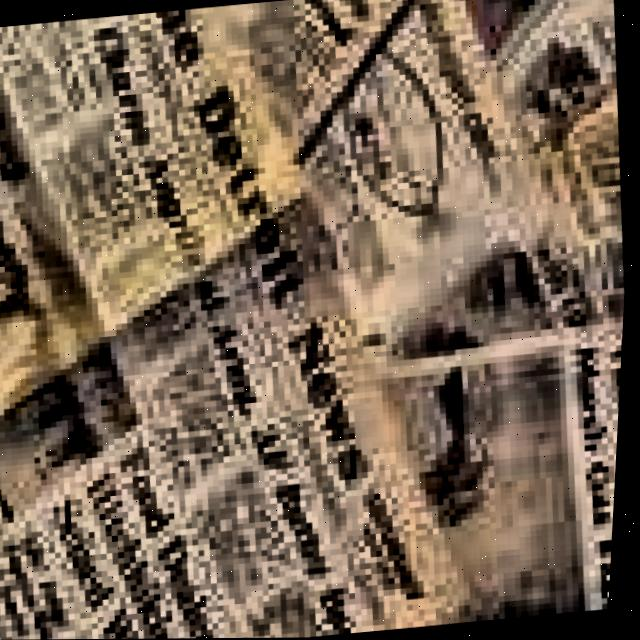paper: (0, 5, 469, 640), (215, 0, 628, 626)
